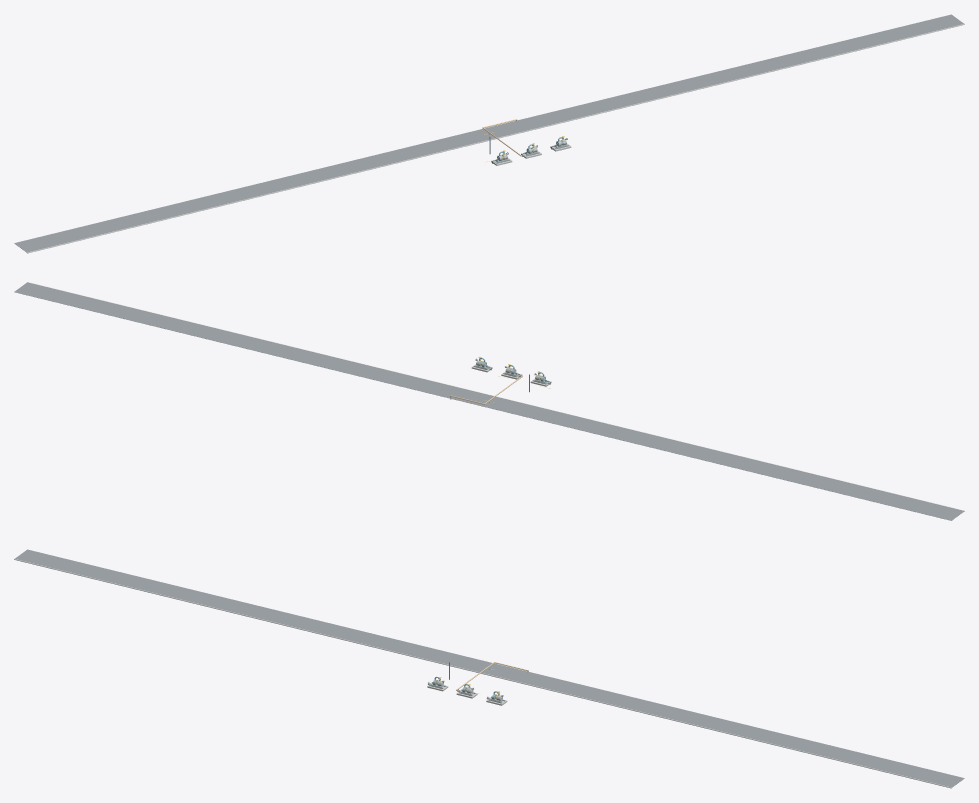
The picture shows the model from 3 angles, top to bottom: view 1: azimuth 30°, elevation 25°; view 2: azimuth 150°, elevation 25°; view 3: azimuth 330°, elevation 25°; orthographic projection.
Visible parts, largest first — view 1: render-batch-2, render-batch-8; view 2: render-batch-2, render-batch-8; view 3: render-batch-2, render-batch-8.
Boxes of the visible parts, bbox=[...] form: render-batch-2: bbox=[14, 14, 963, 252]; render-batch-8: bbox=[27, 24, 964, 253]; render-batch-2: bbox=[14, 282, 963, 520]; render-batch-8: bbox=[27, 282, 964, 511]; render-batch-2: bbox=[15, 549, 964, 787]; render-batch-8: bbox=[14, 559, 951, 788].
Bounding box in the file's own units: 286 × 5.49 × 21.9.
